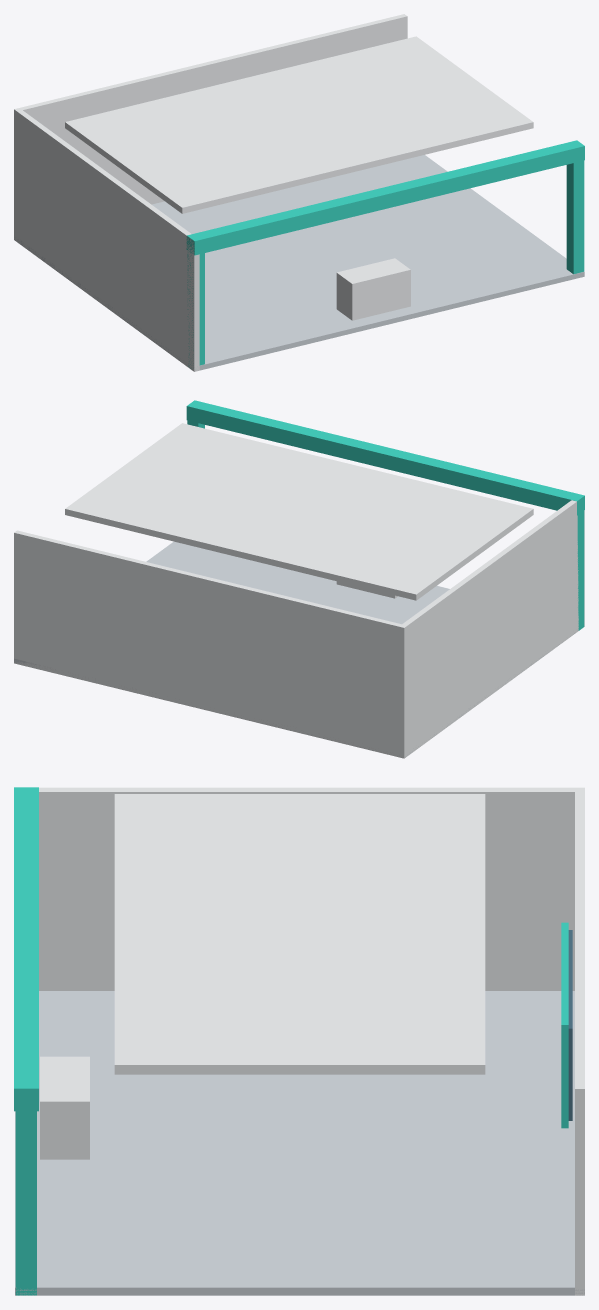
The picture shows the model from 3 angles, top to bottom: view 1: azimuth 30°, elevation 25°; view 2: azimuth 150°, elevation 25°; view 3: azimuth 270°, elevation 25°; orthographic projection. The views are drawn at different scales.
Visible parts, largest first — view 1: Exhibition Booth Concept; view 2: Exhibition Booth Concept; view 3: Exhibition Booth Concept.
Boxes of the visible parts, box(x1,y1,x2,y2) form: Exhibition Booth Concept: box(14, 14, 584, 371); Exhibition Booth Concept: box(14, 400, 584, 758); Exhibition Booth Concept: box(14, 787, 584, 1295).
Bounding box in the file's own units: 10 × 3.34 × 8.01.
